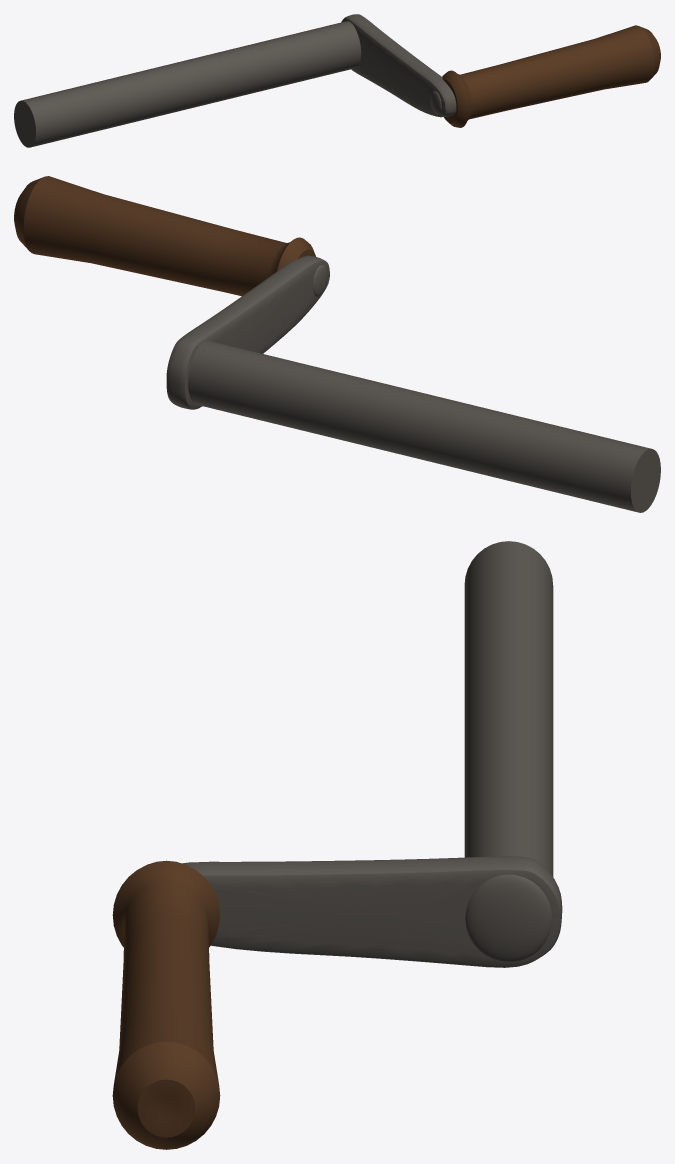
Rendered from crank.glb.
3 views of the same model, one above another, from view 1: azimuth 30°, elevation 25°; view 2: azimuth 150°, elevation 25°; view 3: azimuth 270°, elevation 25° (orthographic). The views are drawn at different scales.
Visible parts, largest first — view 1: crank; view 2: crank; view 3: crank.
Boxes of the visible parts, x1,y1,x2,y2 form: crank: (14, 14, 660, 147); crank: (14, 176, 660, 512); crank: (112, 541, 562, 1149).
Size of the model in its own units: 0.2688 by 0.027 by 0.0963.
